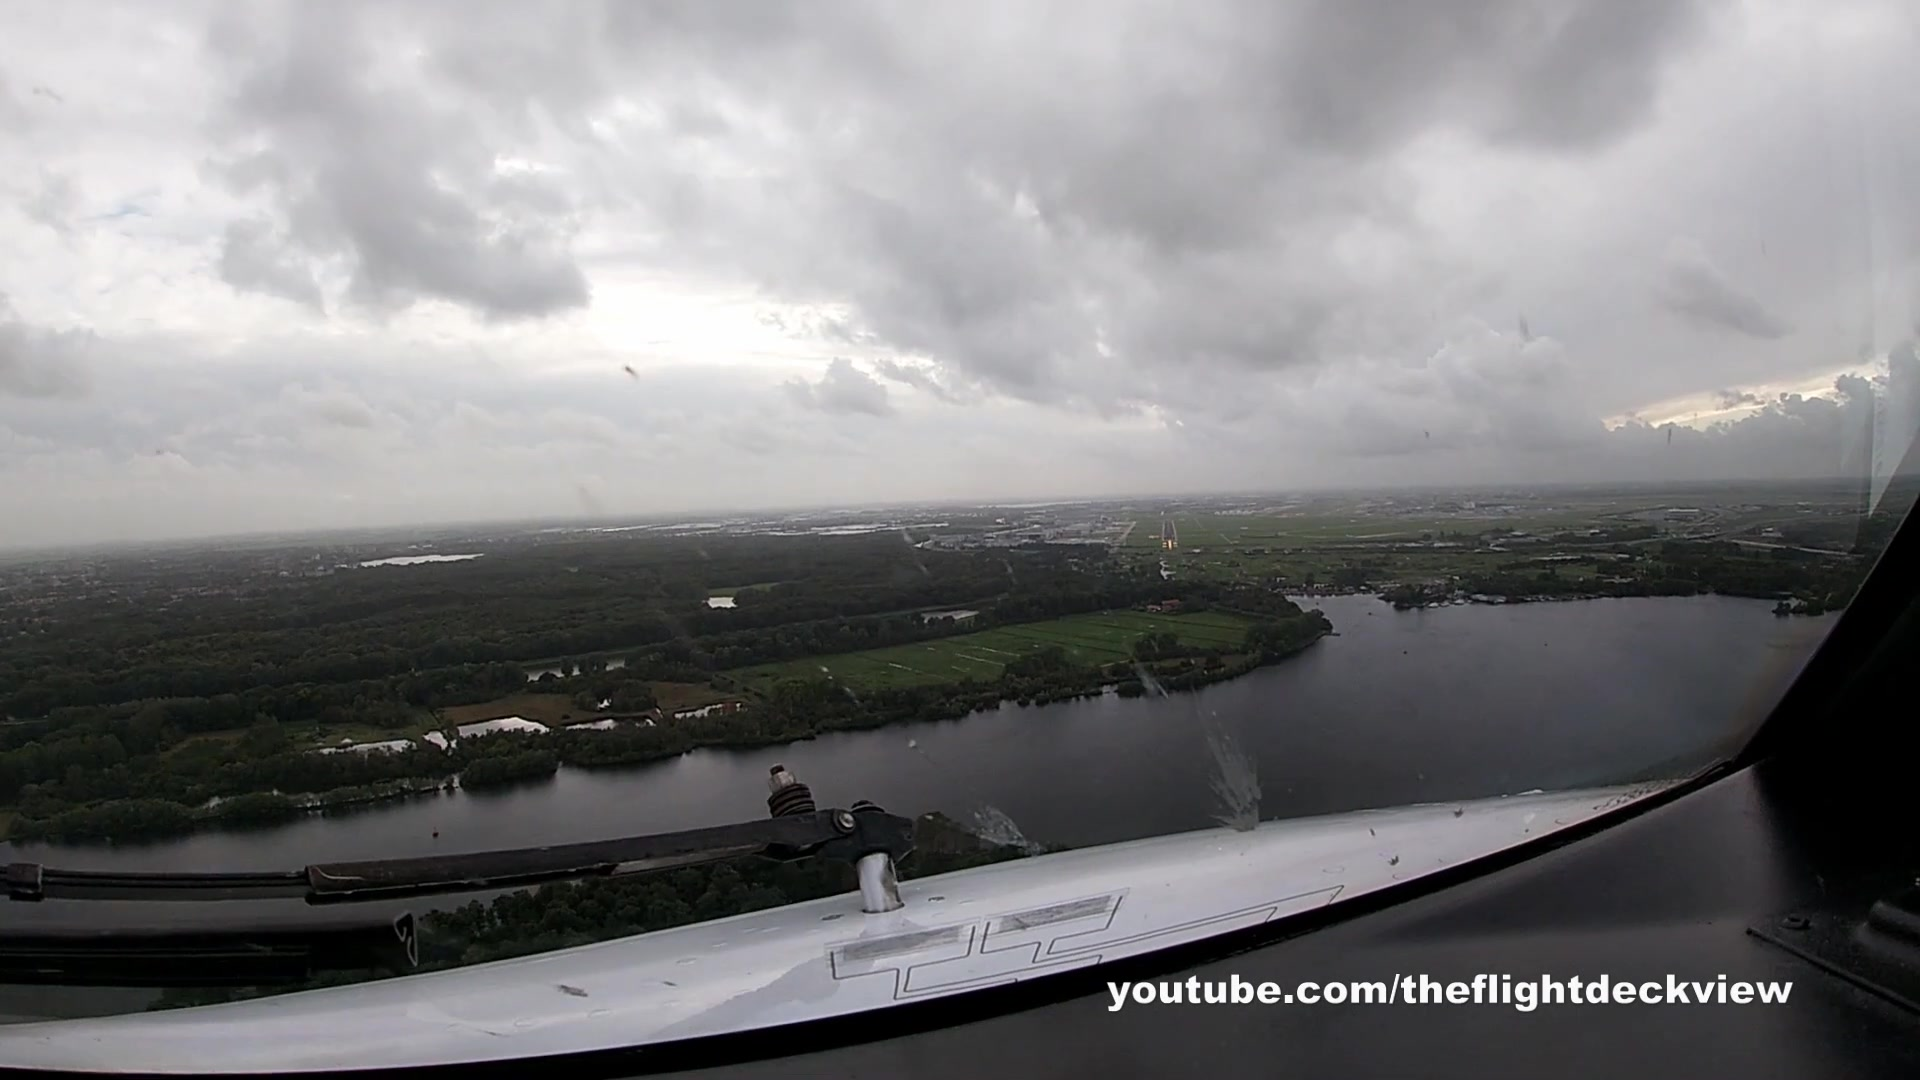runway: (1159, 517, 1180, 553)
